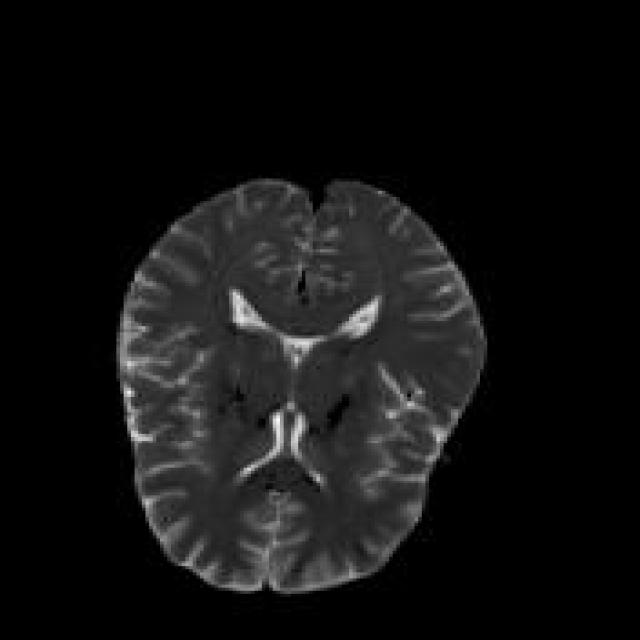parkinson: (113, 172, 487, 594)
